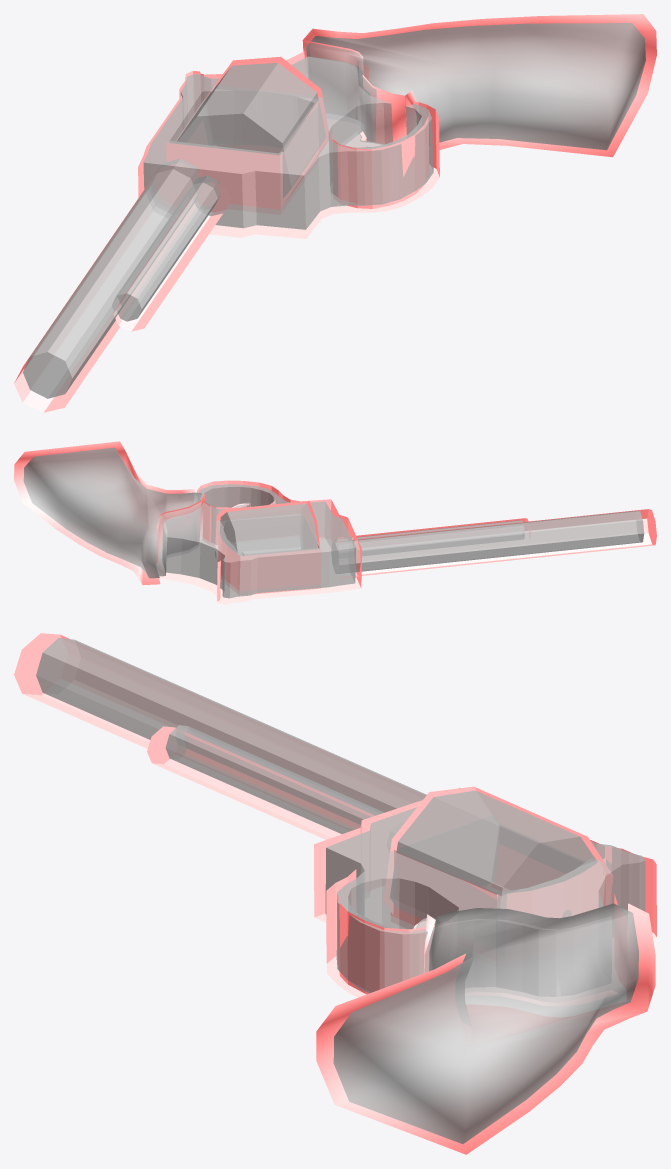
The model's file is start.glb.
The picture shows the model from 3 angles, top to bottom: view 1: azimuth 30°, elevation 25°; view 2: azimuth 150°, elevation 25°; view 3: azimuth 270°, elevation 25°; orthographic projection. The views are drawn at different scales.
Parts seen in each view (by area): view 1: Cylinder, Cylinder.001; view 2: Cylinder.001, Cylinder; view 3: Cylinder.001, Cylinder.
Part boxes in pixels (x1,y1,x2,y2): Cylinder: [14, 14, 656, 412]; Cylinder.001: [23, 23, 645, 398]; Cylinder.001: [23, 447, 644, 598]; Cylinder: [14, 441, 656, 604]; Cylinder.001: [36, 638, 645, 1143]; Cylinder: [14, 633, 656, 1154].
Bounding box in the file's own units: 2.76 × 0.4096 × 1.57.
2 materials, 1 textured.
